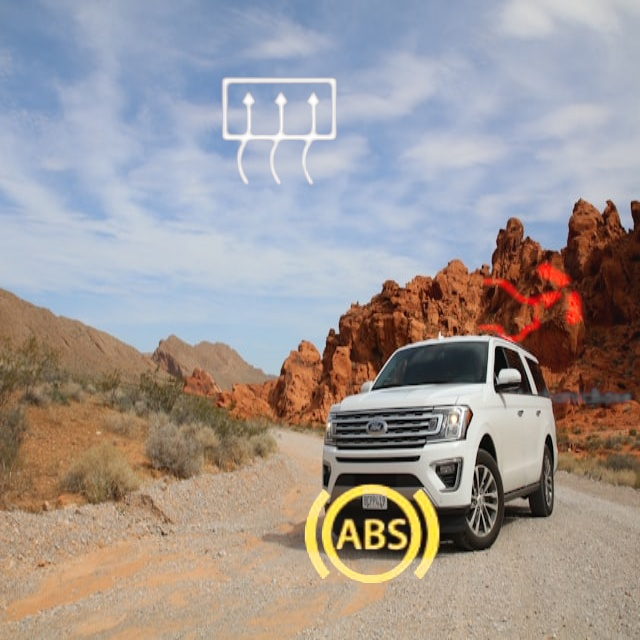symbol: (422, 196, 640, 414), (173, 27, 388, 242), (276, 441, 466, 631)
